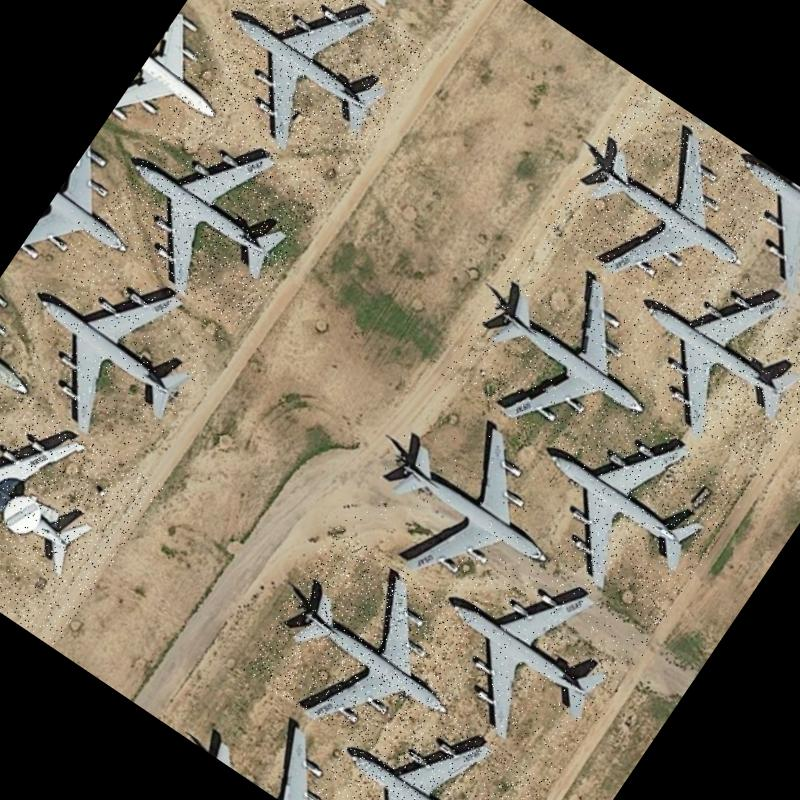A14: (391, 515, 662, 778), (438, 230, 698, 484), (342, 377, 600, 631), (497, 380, 754, 633), (239, 526, 496, 776), (540, 82, 788, 326), (88, 90, 336, 332), (0, 220, 234, 474), (176, 0, 434, 190), (602, 239, 800, 479), (297, 674, 550, 800)
A7: (0, 354, 164, 647)
